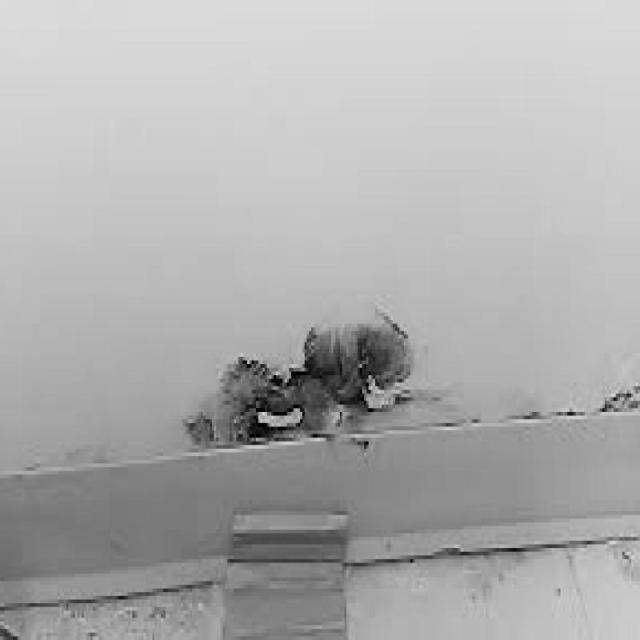stain marks: (180, 295, 640, 455)
